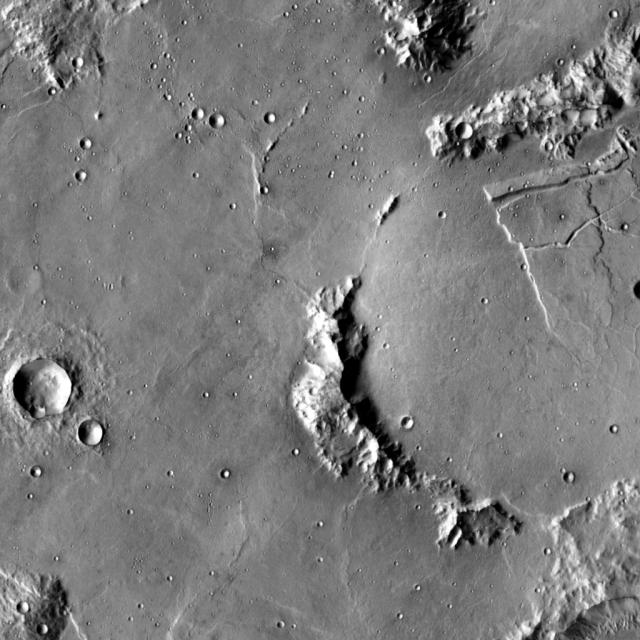crater: (346, 104, 640, 524), (20, 362, 78, 419), (332, 424, 386, 478), (17, 266, 49, 298), (82, 424, 110, 451), (462, 127, 479, 145), (216, 118, 230, 133), (37, 408, 52, 422), (408, 421, 422, 435), (198, 111, 210, 124), (22, 603, 34, 616), (88, 142, 99, 153), (272, 118, 284, 128), (84, 174, 94, 185), (38, 470, 48, 481), (322, 424, 333, 434), (81, 60, 91, 70), (226, 476, 236, 486), (43, 626, 53, 636), (616, 428, 625, 438), (614, 12, 624, 21), (266, 188, 275, 198), (571, 478, 580, 487), (550, 144, 559, 153), (315, 390, 324, 399), (53, 89, 62, 97), (446, 216, 454, 224), (422, 71, 430, 79), (183, 119, 191, 127), (290, 444, 298, 452), (542, 544, 550, 552), (376, 43, 383, 51), (228, 198, 235, 206), (173, 127, 181, 134), (276, 617, 284, 624), (621, 220, 627, 227), (149, 59, 155, 65), (481, 294, 487, 300), (202, 388, 208, 393)
